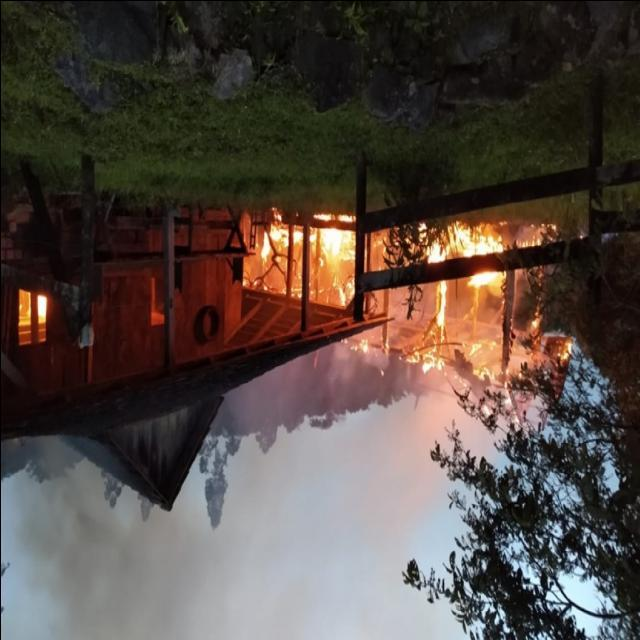Fire: (9, 342, 465, 634), (258, 210, 354, 268), (415, 222, 497, 264), (420, 282, 448, 336), (406, 350, 446, 374), (462, 269, 502, 291), (24, 288, 47, 318), (336, 277, 356, 309), (348, 336, 370, 356), (557, 340, 577, 358)
